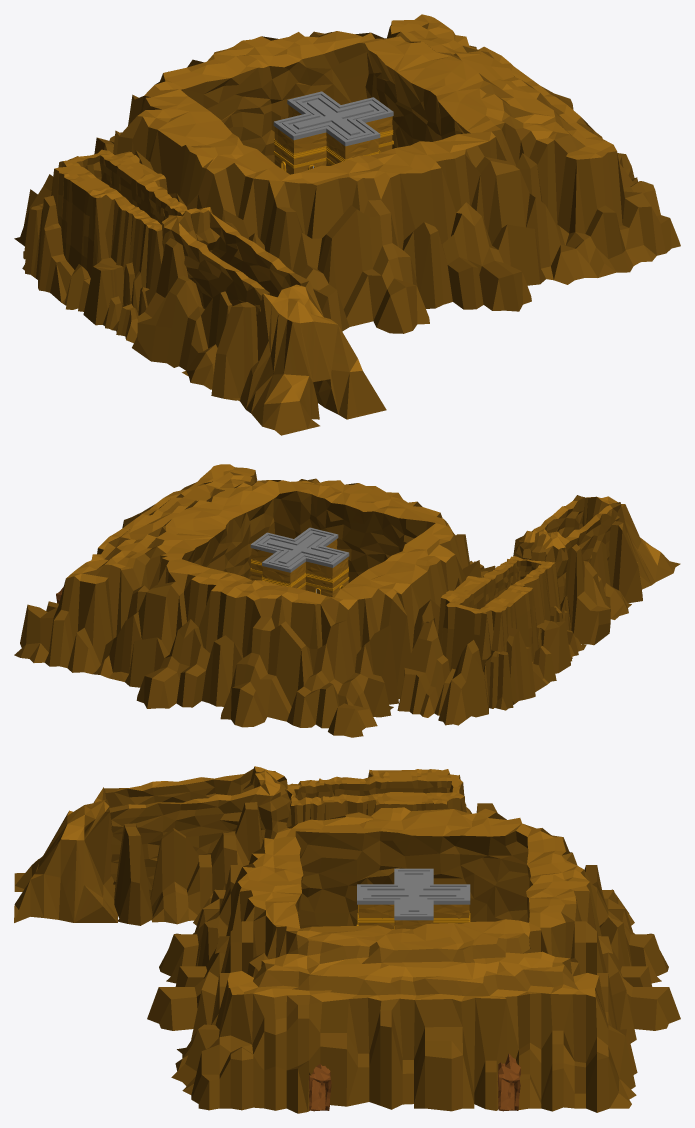
File: Lalibela with Terrain Colored (7).fbx
3 renders of one model, top to bottom at view 1: azimuth 30°, elevation 25°; view 2: azimuth 150°, elevation 25°; view 3: azimuth 270°, elevation 25°, orthographic. The views are drawn at different scales.
Parts seen in each view (by area): view 1: Lalibela_full; view 2: Lalibela_full; view 3: Lalibela_full.
Boxes of the visible parts, left/top/right/bottom form: Lalibela_full: left=14, top=14, right=680, bottom=435; Lalibela_full: left=14, top=464, right=680, bottom=737; Lalibela_full: left=14, top=766, right=680, bottom=1113.
Bounding box in the file's own units: 15633 × 3492 × 17231.
Materials: 1 (1 with a texture image).
